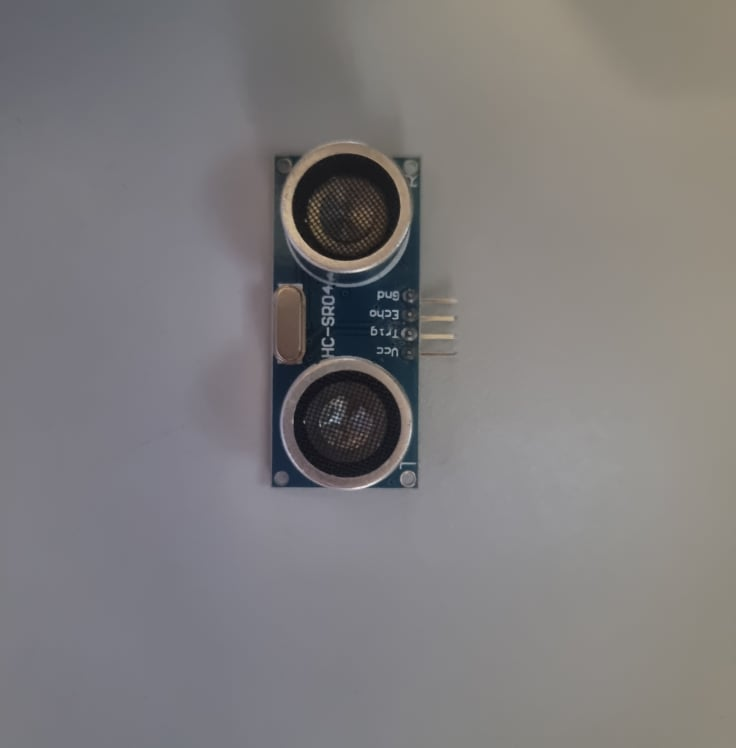SENSOR: (269, 139, 429, 494)
